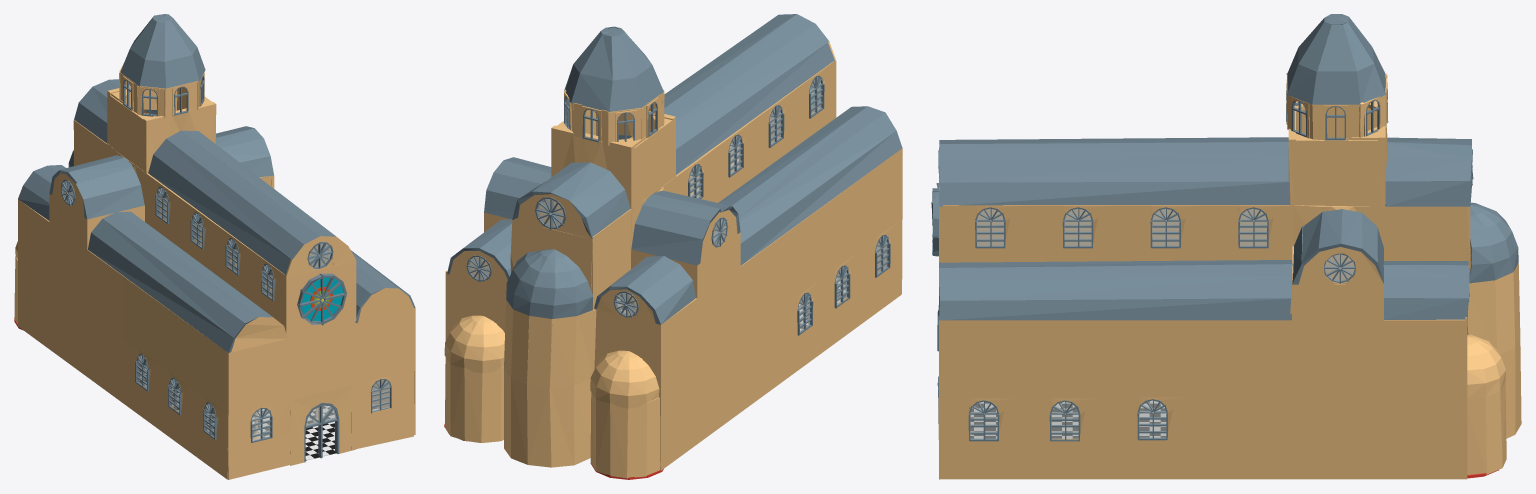
File: cathedral.glb
The picture shows the model from 3 angles, left to right: view 1: azimuth 30°, elevation 25°; view 2: azimuth 150°, elevation 25°; view 3: azimuth 270°, elevation 25°; orthographic projection. The views are drawn at different scales.
Visible parts, largest first — view 1: group2125448215, group139014362, group1028819993, group907507585, group1775246454, group116975768, group1762686961_521d8e, group76464888_23045b, group470275030_33b7e5, group454827528, group1987347754_6c8d6c, group222399128 (+33 smaller); view 2: group2125448215, group139014362, group1967374255, group1028819993, group2132728173, group116975768, group895037902, group1157343340, group470275030_33b7e5, group1710085224, group684302131, group789277311 (+30 smaller); view 3: group2107818933, group1393339195, group1028819993, group510950834, group1797121070, group2115469555_a4e6f0, group1710085224, group473540176, group2108872909, group895037902, group2104763800_d3fd06, group1967374255 (+25 smaller).
Part boxes in pixels (x1=…): group2125448215: x1=18, y1=199, x2=123, y2=402; group139014362: x1=18, y1=165, x2=272, y2=352; group1028819993: x1=148, y1=130, x2=335, y2=276; group907507585: x1=226, y1=307, x2=415, y2=415; group1775246454: x1=283, y1=260, x2=356, y2=400; group116975768: x1=122, y1=275, x2=225, y2=414; group1762686961_521d8e: x1=351, y1=369, x2=414, y2=449; group76464888_23045b: x1=227, y1=400, x2=290, y2=479; group470275030_33b7e5: x1=145, y1=173, x2=284, y2=307; group454827528: x1=145, y1=206, x2=283, y2=325; group1987347754_6c8d6c: x1=290, y1=385, x2=355, y2=465; group222399128: x1=130, y1=14, x2=196, y2=61; group2125448215: x1=656, y1=236, x2=781, y2=470; group139014362: x1=594, y1=106, x2=902, y2=324; group1967374255: x1=504, y1=300, x2=596, y2=467; group1028819993: x1=618, y1=14, x2=835, y2=174; group2132728173: x1=590, y1=342, x2=663, y2=478; group116975768: x1=780, y1=150, x2=899, y2=309; group895037902: x1=444, y1=306, x2=505, y2=442; group1157343340: x1=506, y1=249, x2=592, y2=318; group470275030_33b7e5: x1=674, y1=61, x2=834, y2=195; group1710085224: x1=512, y1=162, x2=630, y2=238; group684302131: x1=445, y1=271, x2=661, y2=356; group789277311: x1=551, y1=125, x2=634, y2=208; group2107818933: x1=1200, y1=319, x2=1467, y2=479; group1393339195: x1=939, y1=260, x2=1469, y2=320; group1028819993: x1=939, y1=137, x2=1290, y2=206; group510950834: x1=939, y1=320, x2=1204, y2=398; group1797121070: x1=943, y1=205, x2=1293, y2=246; group2115469555_a4e6f0: x1=1017, y1=398, x2=1105, y2=479; group1710085224: x1=1385, y1=137, x2=1472, y2=206; group473540176: x1=1293, y1=140, x2=1381, y2=206; group2108872909: x1=941, y1=246, x2=1292, y2=262; group895037902: x1=1467, y1=334, x2=1506, y2=474; group2104763800_d3fd06: x1=1292, y1=247, x2=1383, y2=320; group1967374255: x1=1467, y1=246, x2=1521, y2=438.
Size of the model in its own units: 27.67 by 45 by 59.36.
